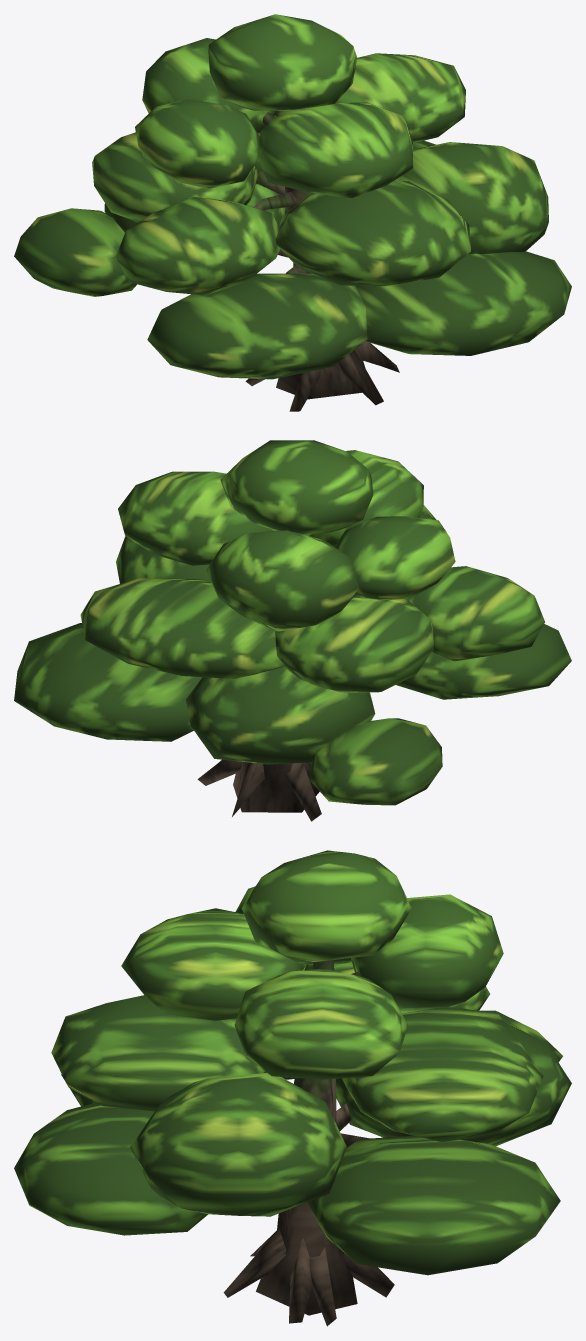
File: Canopy_Tree_D_Far.glb
3 views of the same model, one above another, from view 1: azimuth 30°, elevation 25°; view 2: azimuth 150°, elevation 25°; view 3: azimuth 270°, elevation 25° (orthographic). The views are drawn at different scales.
Parts seen in each view (by area): view 1: Canopy_Tree_D_Far__Leaves, Canopy_Tree_D_Far__Bark; view 2: Canopy_Tree_D_Far__Leaves, Canopy_Tree_D_Far__Bark; view 3: Canopy_Tree_D_Far__Leaves, Canopy_Tree_D_Far__Bark.
Boxes of the visible parts, x1,y1,x2,y2 form: Canopy_Tree_D_Far__Leaves: (14, 14, 571, 379); Canopy_Tree_D_Far__Bark: (245, 110, 399, 411); Canopy_Tree_D_Far__Leaves: (14, 440, 571, 805); Canopy_Tree_D_Far__Bark: (197, 535, 321, 821); Canopy_Tree_D_Far__Leaves: (14, 850, 571, 1275); Canopy_Tree_D_Far__Bark: (223, 960, 394, 1326).
Bounding box in the file's own units: 45.16 × 37.31 × 45.52.
Materials: 1 (1 with a texture image).
